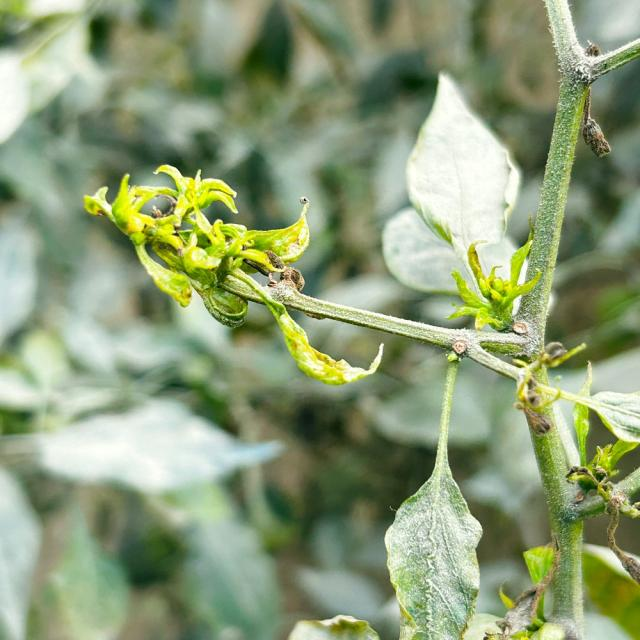Chilli_Leaf_Curl: (81, 4, 638, 637), (83, 162, 384, 386), (402, 70, 540, 331), (383, 351, 484, 638), (445, 220, 541, 332)
